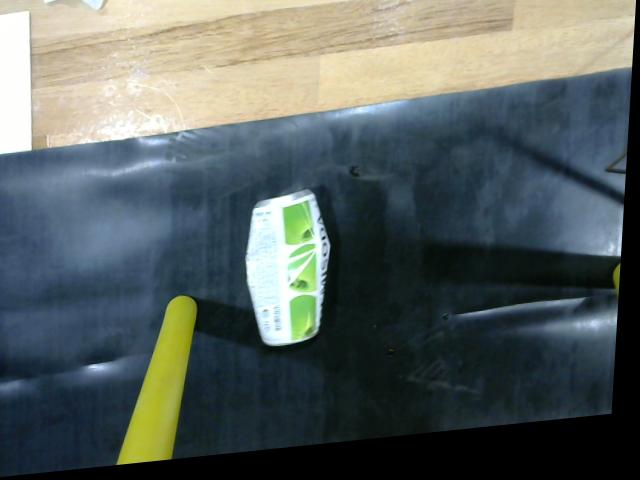can: (241, 190, 343, 354)
